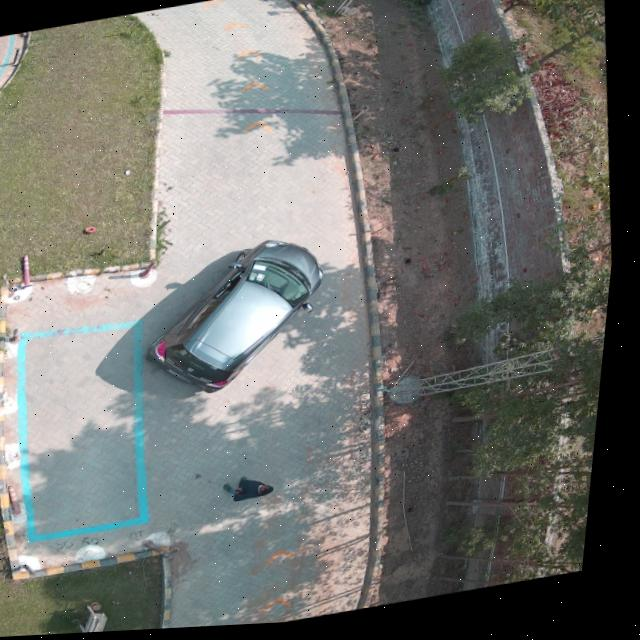car: (153, 244, 328, 395)
